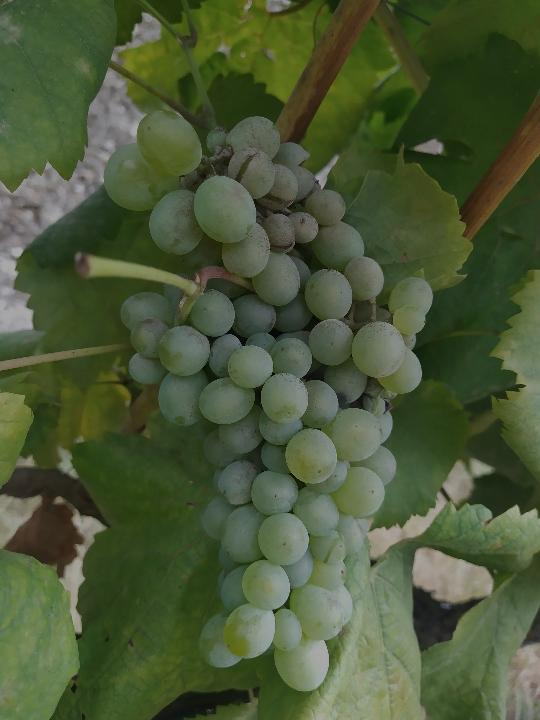grape: (100, 106, 436, 696)
